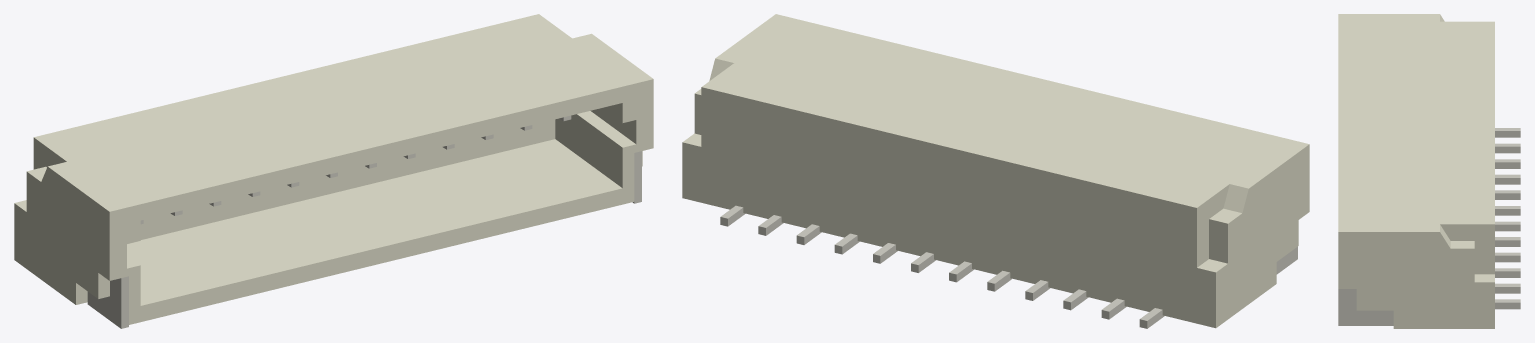
File: kc-jst_sh_sm12b-srss-tb_1x12-1mp_p1.00mm_horizontal.glb
3 views of the same model, side by side, from view 1: azimuth 30°, elevation 25°; view 2: azimuth 150°, elevation 25°; view 3: azimuth 270°, elevation 25° (orthographic). The views are drawn at different scales.
Visible parts, largest first — view 1: 0.75_0.75_0.6666666666666666_0, 0.6666666666666666_0.6666666666666666_0.5833333333333334_0.8; view 2: 0.75_0.75_0.6666666666666666_0, 0.6666666666666666_0.6666666666666666_0.5833333333333334_0.8; view 3: 0.75_0.75_0.6666666666666666_0, 0.6666666666666666_0.6666666666666666_0.5833333333333334_0.8.
Part boxes in pixels (<box>): 0.75_0.75_0.6666666666666666_0: <box>14,14,653,324</box>; 0.6666666666666666_0.6666666666666666_0.5833333333333334_0.8: <box>87,115,641,328</box>; 0.75_0.75_0.6666666666666666_0: <box>682,14,1309,328</box>; 0.6666666666666666_0.6666666666666666_0.5833333333333334_0.8: <box>720,205,1297,328</box>; 0.75_0.75_0.6666666666666666_0: <box>1338,14,1494,328</box>; 0.6666666666666666_0.6666666666666666_0.5833333333333334_0.8: <box>1338,128,1520,325</box>.
Size of the model in its own units: 1.4 by 0.296 by 0.4951.
